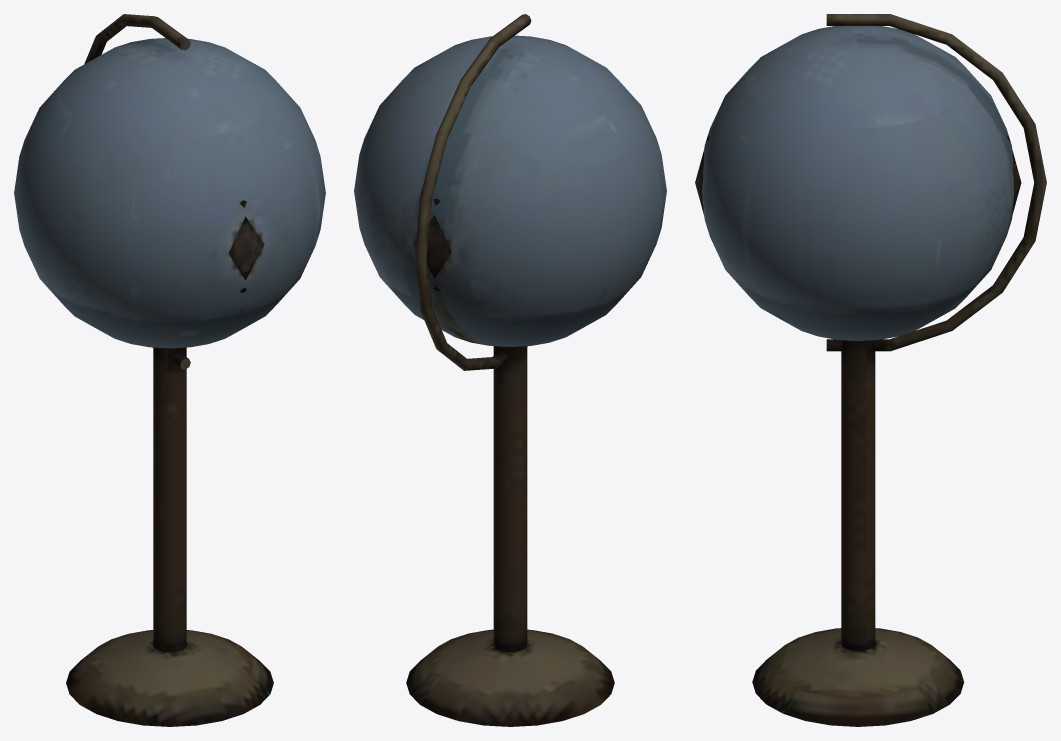
The model's file is Globe.glb.
The picture shows the model from 3 angles, left to right: view 1: azimuth 30°, elevation 25°; view 2: azimuth 150°, elevation 25°; view 3: azimuth 270°, elevation 25°; orthographic projection.
Visible parts, largest first — view 1: Tex__SmoothPlastic__FFFFFF; view 2: Tex__SmoothPlastic__FFFFFF; view 3: Tex__SmoothPlastic__FFFFFF.
Boxes of the visible parts, x1,y1,x2,y2 form: Tex__SmoothPlastic__FFFFFF: (14,14,325,726); Tex__SmoothPlastic__FFFFFF: (354,14,666,726); Tex__SmoothPlastic__FFFFFF: (695,14,1046,726).
Size of the model in its own units: 0.42 by 0.9735 by 0.4648.
Materials: 1 (1 with a texture image).
